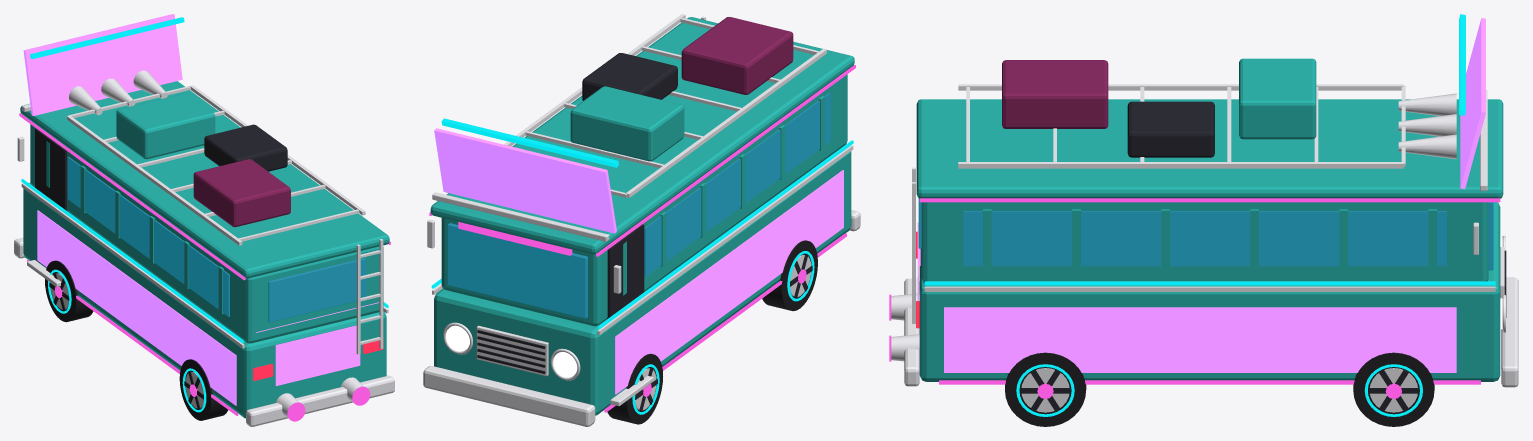
The model's file is jingle_bus.glb.
The picture shows the model from 3 angles, left to right: view 1: azimuth 30°, elevation 25°; view 2: azimuth 150°, elevation 25°; view 3: azimuth 270°, elevation 25°; orthographic projection. The views are drawn at different scales.
Visible parts, largest first — view 1: body, wheel_rl, wheel_fl; view 2: body, wheel_rl, wheel_fl; view 3: body, wheel_fr, wheel_rr.
Part boxes in pixels (x1,y1,x2,y2): body: (14, 14, 394, 426); wheel_rl: (179, 359, 227, 420); wheel_fl: (45, 260, 93, 322); body: (423, 14, 860, 426); wheel_rl: (762, 240, 817, 311); wheel_fl: (607, 353, 662, 424); body: (889, 14, 1518, 387); wheel_fr: (1353, 352, 1434, 426); wheel_rr: (1005, 352, 1086, 426).
Bounding box in the file's own units: 2.58 × 3.64 × 6.5.
